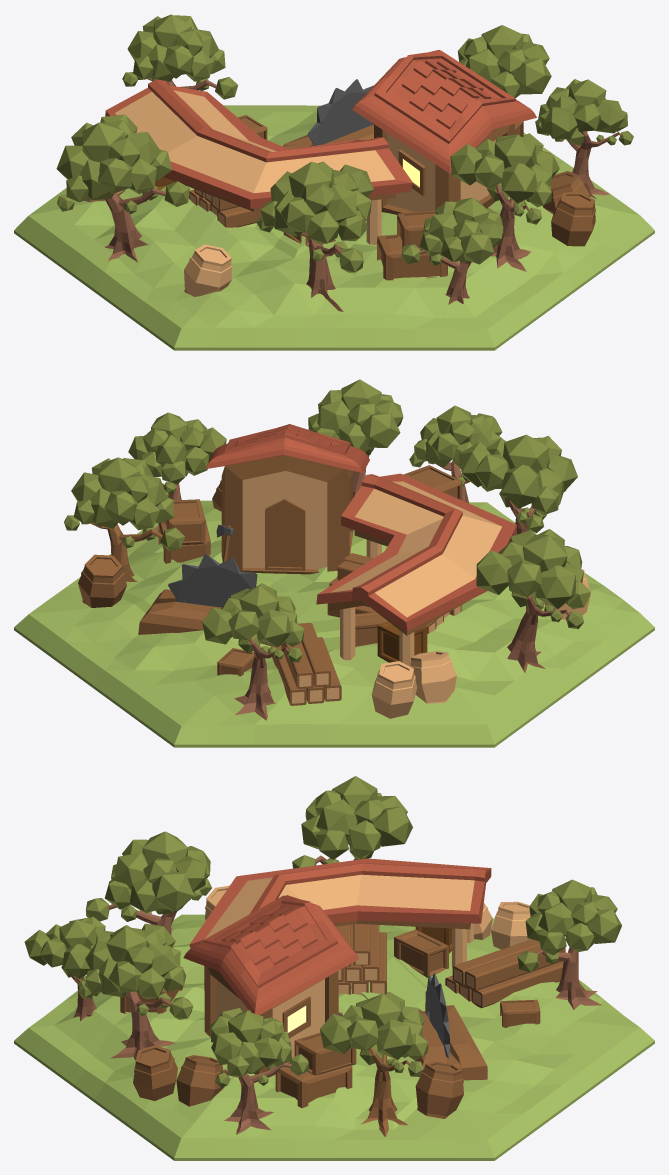
Rendered from lumber_mill.glb.
3 renders of one model, top to bottom at view 1: azimuth 30°, elevation 25°; view 2: azimuth 150°, elevation 25°; view 3: azimuth 270°, elevation 25°, orthographic.
Parts seen in each view (by area): view 1: lumbermill, saw.top, saw; view 2: lumbermill, saw.top, saw; view 3: lumbermill, saw, saw.top.
Part boxes in pixels (box(x1,y1,x2,y2)): lumbermill: box(14, 14, 654, 350); saw.top: box(307, 79, 373, 145); saw: box(282, 124, 373, 147); lumbermill: box(14, 379, 654, 747); saw.top: box(168, 554, 257, 607); saw: box(138, 589, 271, 646); lumbermill: box(14, 776, 654, 1160); saw: box(415, 1005, 487, 1080); saw.top: box(425, 973, 449, 1058).
Size of the model in its own units: 1.83 by 0.5919 by 2.
